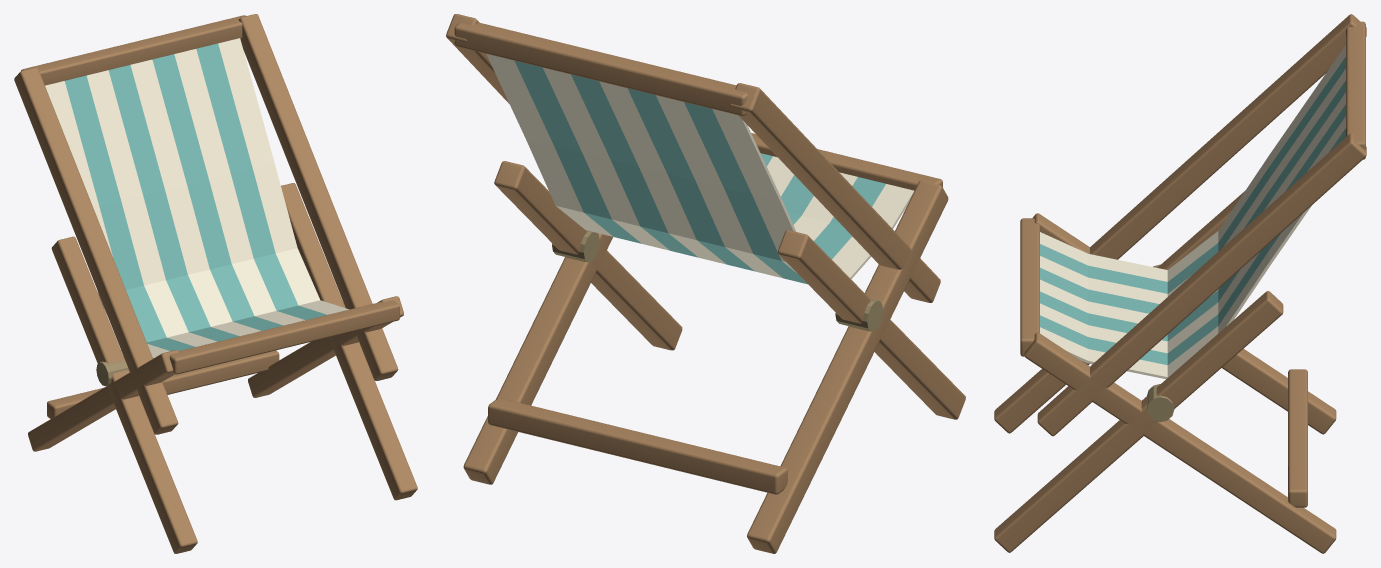
Rendered from beach_deckchair.glb.
3 renders of one model, left to right at view 1: azimuth 30°, elevation 25°; view 2: azimuth 150°, elevation 25°; view 3: azimuth 270°, elevation 25°, orthographic. The views are drawn at different scales.
Parts seen in each view (by area): view 1: Reclined_side_rail, Reclined_side_rail.001, Cross_leg_front, Cross_leg_front.001, Sling_stripe_05, Sling_stripe_04, Sling_stripe_07, Sling_stripe_08, Sling_stripe_02, Sling_stripe_03, Sling_stripe_06, Sling_stripe_01 (+7 smaller); view 2: Cross_leg_rear, Reclined_side_rail, Cross_tie.002, Cross_tie.001, Cross_leg_rear.001, Cross_leg_front, Cross_leg_front.001, Sling_stripe_01, Sling_stripe_00, Sling_stripe_02, Sling_stripe_03, Sling_stripe_04 (+8 smaller); view 3: Reclined_side_rail.001, Cross_leg_front.001, Cross_leg_rear.001, Reclined_side_rail, Sling_stripe_00, Sling_stripe_01, Cross_leg_rear, Sling_stripe_08, Cross_leg_front, Sling_stripe_02, Cross_tie.002, Sling_stripe_03 (+7 smaller).
Boxes of the visible parts, x1=… form: Reclined_side_rail: x1=14, y1=67, x2=178, y2=434; Reclined_side_rail.001: x1=239, y1=14, x2=398, y2=380; Cross_leg_front: x1=51, y1=236, x2=197, y2=553; Cross_leg_front.001: x1=281, y1=183, x2=417, y2=500; Sling_stripe_05: x1=152, y1=54, x2=283, y2=330; Sling_stripe_04: x1=130, y1=59, x2=261, y2=336; Sling_stripe_07: x1=196, y1=43, x2=327, y2=319; Sling_stripe_08: x1=218, y1=38, x2=349, y2=314; Sling_stripe_02: x1=86, y1=70, x2=217, y2=346; Sling_stripe_03: x1=108, y1=65, x2=239, y2=341; Sling_stripe_06: x1=174, y1=49, x2=305, y2=325; Sling_stripe_01: x1=64, y1=75, x2=195, y2=351; Cross_leg_rear: x1=747, y1=180, x2=948, y2=553; Reclined_side_rail: x1=729, y1=83, x2=940, y2=302; Cross_tie.002: x1=488, y1=398, x2=787, y2=494; Cross_tie.001: x1=454, y1=22, x2=747, y2=115; Cross_leg_rear.001: x1=463, y1=233, x2=612, y2=484; Cross_leg_front: x1=778, y1=230, x2=965, y2=419; Cross_leg_front.001: x1=494, y1=161, x2=682, y2=350; Sling_stripe_01: x1=684, y1=102, x2=885, y2=284; Sling_stripe_00: x1=712, y1=109, x2=914, y2=279; Sling_stripe_02: x1=656, y1=95, x2=857, y2=278; Sling_stripe_03: x1=627, y1=88, x2=813, y2=271; Sling_stripe_04: x1=599, y1=81, x2=793, y2=264; Reclined_side_rail.001: x1=1037, y1=133, x2=1366, y2=436; Cross_leg_front.001: x1=994, y1=291, x2=1283, y2=552; Cross_leg_rear.001: x1=1024, y1=332, x2=1336, y2=553; Reclined_side_rail: x1=1090, y1=14, x2=1366, y2=259; Sling_stripe_00: x1=1040, y1=45, x2=1345, y2=281; Sling_stripe_01: x1=1040, y1=57, x2=1345, y2=293; Cross_leg_rear: x1=1032, y1=213, x2=1336, y2=434; Sling_stripe_08: x1=1040, y1=205, x2=1311, y2=378; Cross_leg_front: x1=994, y1=191, x2=1244, y2=433; Sling_stripe_02: x1=1040, y1=69, x2=1345, y2=303; Cross_tie.002: x1=1288, y1=369, x2=1307, y2=507; Sling_stripe_03: x1=1040, y1=80, x2=1345, y2=313.
Size of the model in its own units: 0.868 by 1.26 by 1.03.
